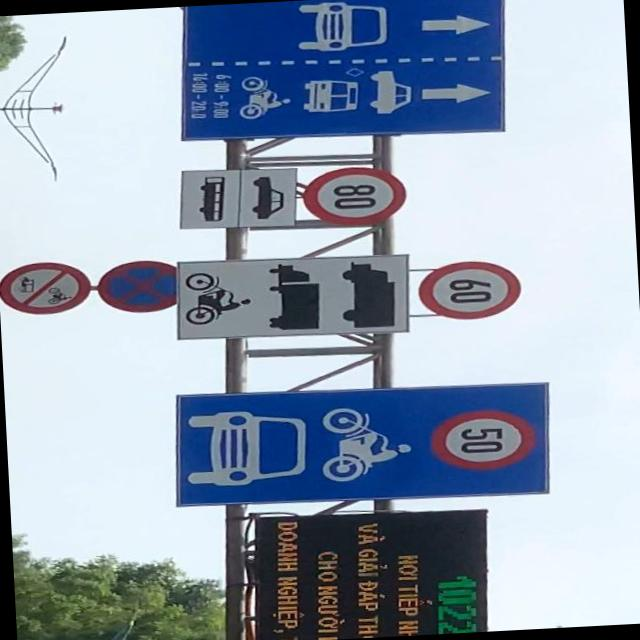P-127: (415, 260, 521, 320), (304, 165, 406, 225)
P-130: (96, 260, 176, 313)
